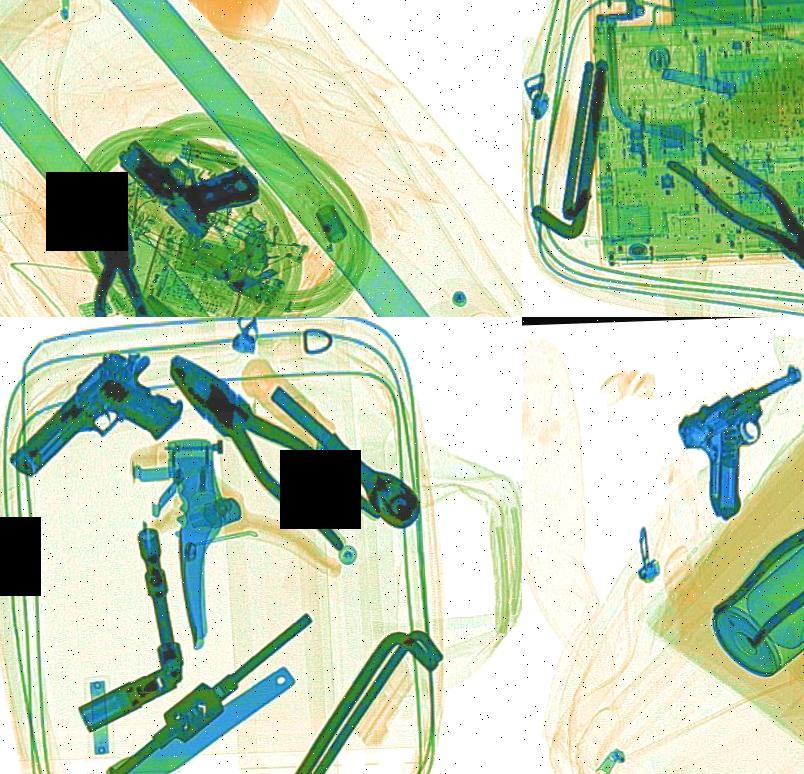Gun: (0, 328, 195, 532), (654, 359, 804, 521), (105, 98, 268, 246)
Pliers: (146, 328, 384, 567), (657, 124, 804, 309), (694, 440, 804, 652), (86, 199, 152, 317)
